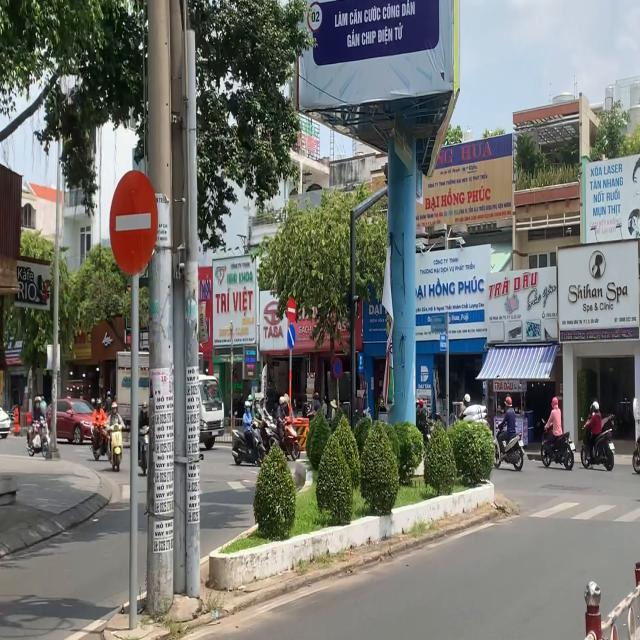Cam do: (332, 357, 342, 379)
Cam nguoc chieu: (109, 170, 158, 276), (286, 297, 297, 323)
Hieu lenh: (287, 324, 296, 349)
